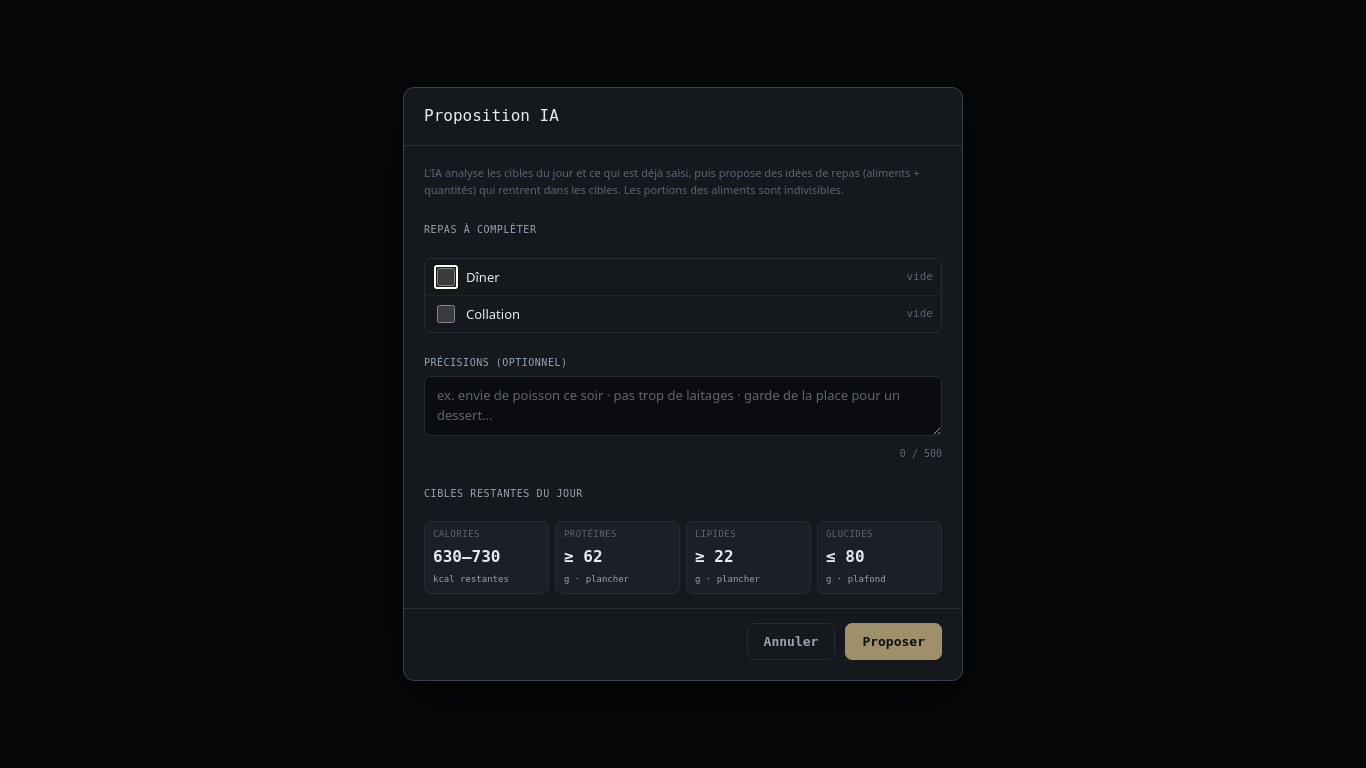
it: AiProposalsDialog — request popup (S9 / B-123) › renders the graceful "already on target" state (no cards, no error) when status=on_target
Click the checkbox labelled "Dîner vide" at point(446, 277), box [437,268,455,286]
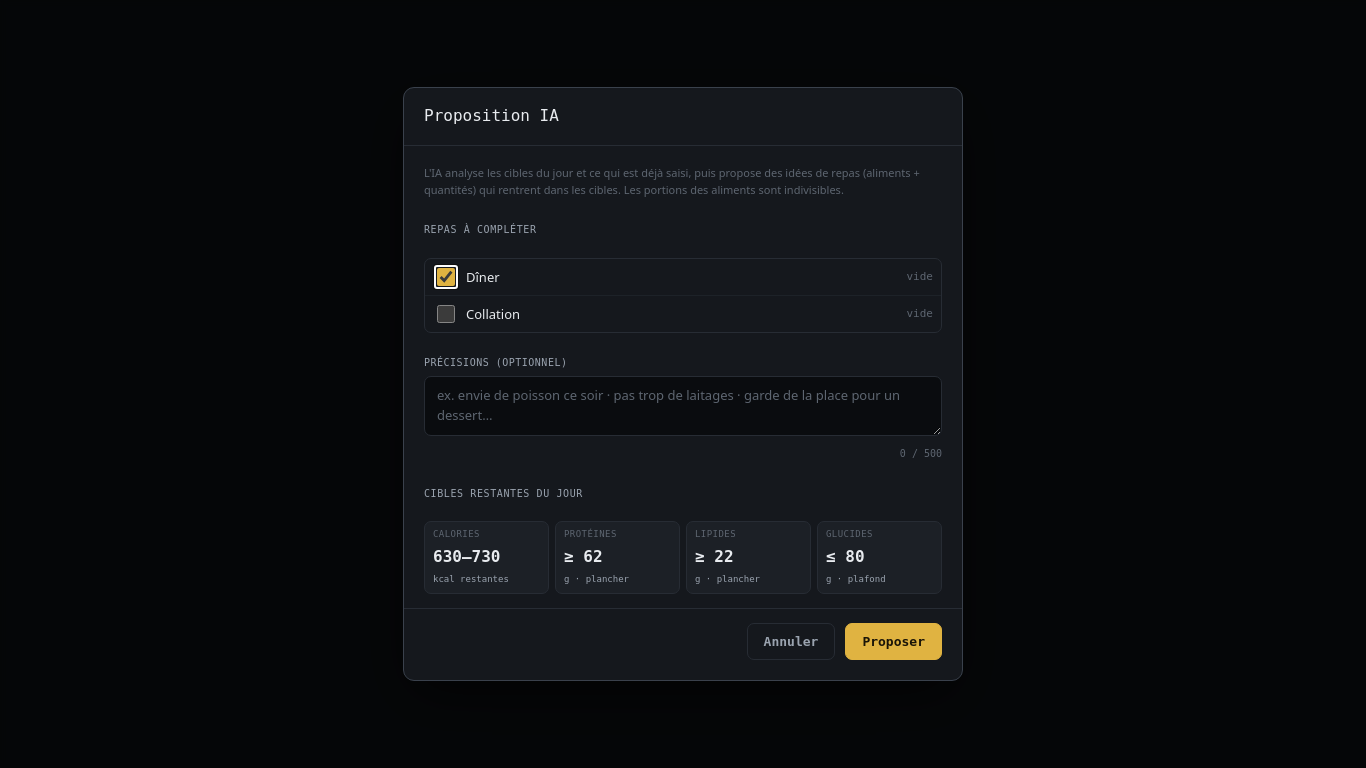
Click the button "Proposer" at point(894, 641), box [845,623,942,660]
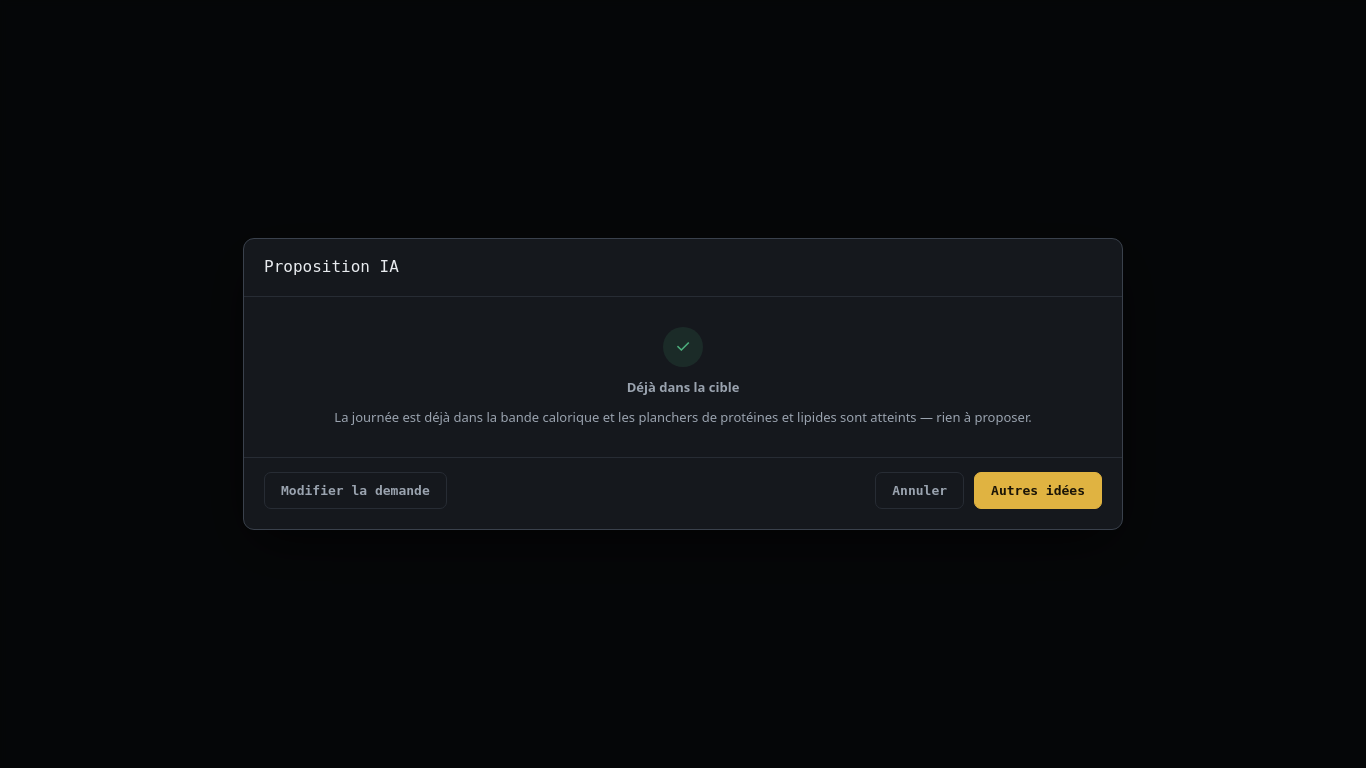
expect the text "Déjà dans la cible" is shown: met, box [627,377,739,397]
expect the text "La journée est déjà dans la bande calorique et les planchers de protéines et lipides sont atteints — rien à proposer." is shown: met, box [334,408,1032,426]
